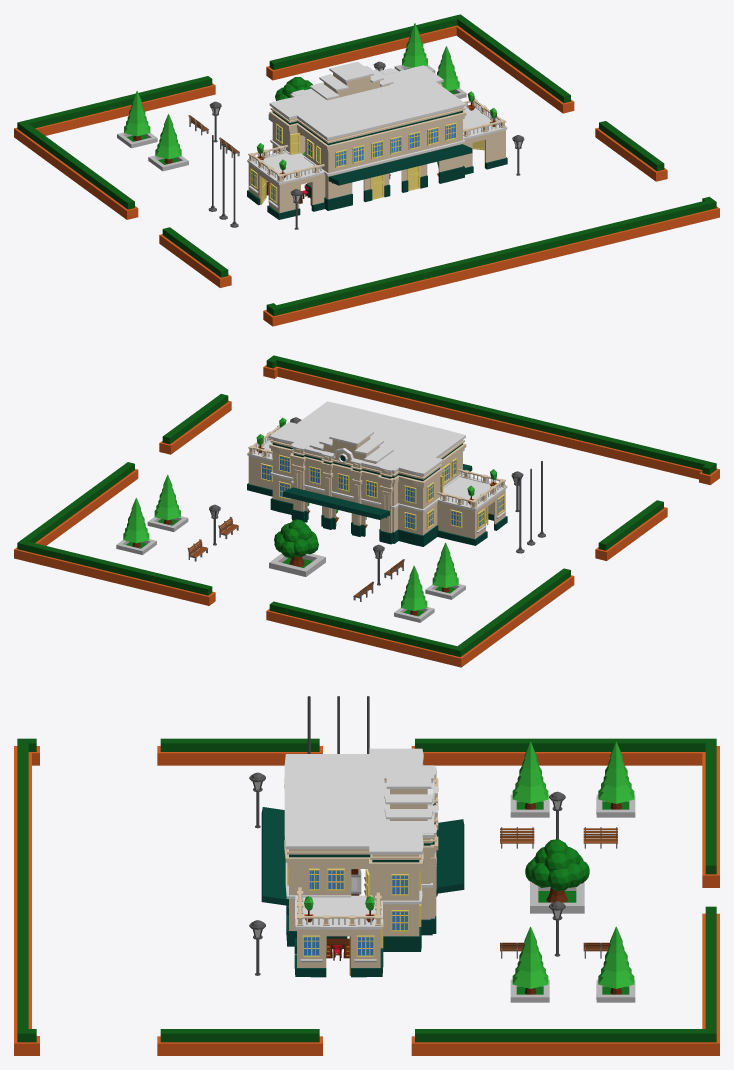
Rendered from Zipaquira-Station-Model.glb.
The picture shows the model from 3 angles, top to bottom: view 1: azimuth 30°, elevation 25°; view 2: azimuth 150°, elevation 25°; view 3: azimuth 270°, elevation 25°; orthographic projection. The views are drawn at different scales.
Visible parts, largest first — view 1: Cube.438, Cube.382, Cube.383, Cube.427, Cube.319, Cube.435, Cube.407, Cube.891, Cylinder.064, Cube.367; view 2: Cube.382, Cube.438, Cube.383, Cube.319, Cube.427, Cube.436, Cube.435, Cube.437, Cube.430, Cube.891, Cylinder.064; view 3: Cube.382, Cube.438, Cube.319, Cube.383, Cube.427, Cube.435, Cube.407, Cube.430, Cube.891, Cube.436, Cube.387, Cube.384 (+4 smaller).
Boxes of the visible parts, x1=… form: Cube.438: x1=269, y1=65, x2=466, y2=210; Cube.382: x1=14, y1=14, x2=574, y2=219; Cube.383: x1=263, y1=196, x2=719, y2=326; Cube.427: x1=247, y1=106, x2=507, y2=219; Cube.319: x1=159, y1=121, x2=667, y2=287; Cube.435: x1=309, y1=61, x2=393, y2=100; Cube.407: x1=328, y1=144, x2=472, y2=185; Cube.891: x1=254, y1=107, x2=498, y2=179; Cylinder.064: x1=208, y1=135, x2=238, y2=227; Cube.367: x1=370, y1=165, x2=420, y2=199; Cube.382: x1=14, y1=462, x2=574, y2=667; Cube.438: x1=269, y1=401, x2=466, y2=546; Cube.383: x1=263, y1=355, x2=719, y2=485; Cube.319: x1=159, y1=394, x2=667, y2=560; Cube.427: x1=247, y1=438, x2=507, y2=545; Cube.436: x1=290, y1=442, x2=397, y2=544; Cube.435: x1=309, y1=425, x2=393, y2=463; Cube.437: x1=321, y1=451, x2=363, y2=536; Cube.430: x1=283, y1=487, x2=389, y2=519; Cube.891: x1=255, y1=440, x2=499, y2=505; Cylinder.064: x1=516, y1=461, x2=545, y2=553; Cube.382: x1=411, y1=738, x2=719, y2=1055; Cube.438: x1=284, y1=748, x2=434, y2=951; Cube.319: x1=157, y1=738, x2=322, y2=1055; Cube.383: x1=14, y1=738, x2=39, y2=1055; Cube.427: x1=294, y1=896, x2=383, y2=977; Cube.435: x1=384, y1=767, x2=433, y2=820; Cube.407: x1=261, y1=807, x2=288, y2=905; Cube.430: x1=436, y1=819, x2=464, y2=893; Cube.891: x1=302, y1=895, x2=376, y2=924; Cube.436: x1=421, y1=766, x2=438, y2=933; Cube.387: x1=510, y1=794, x2=549, y2=1002; Cube.384: x1=596, y1=794, x2=635, y2=1002.
Size of the model in its own units: 32.22 by 6.55 by 32.27.
